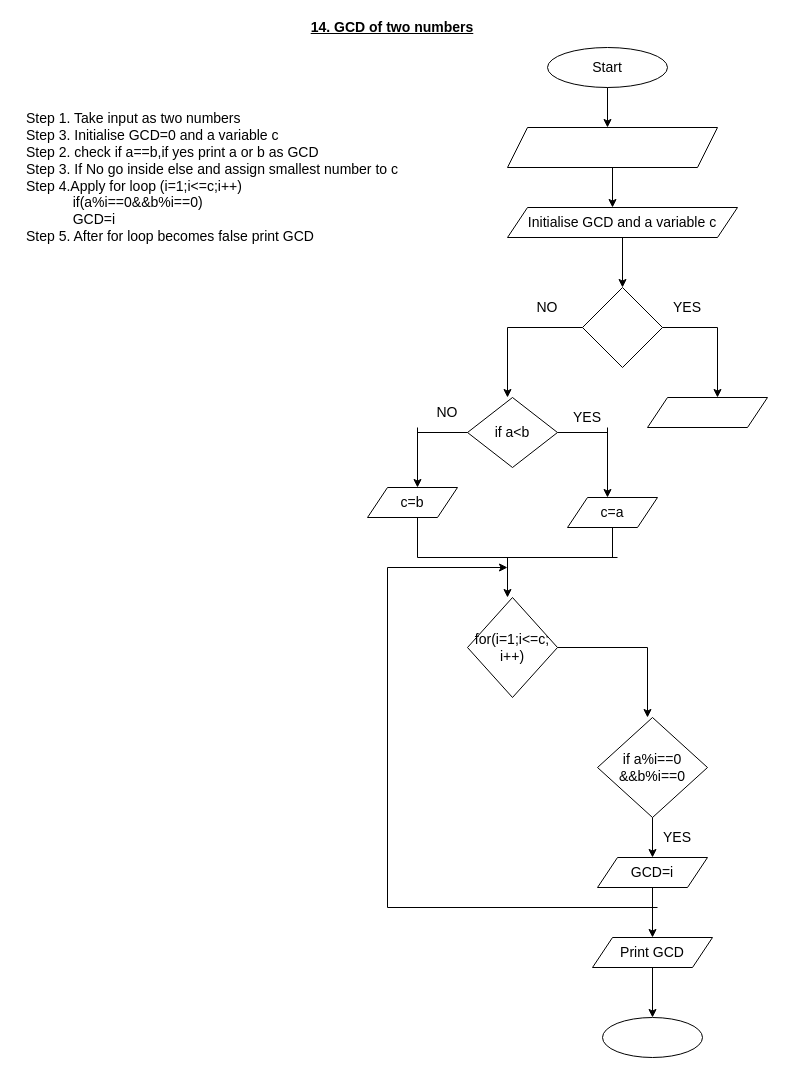
The diagram is 785 pixels wide and 1075 high, and some of its shapes have lost their labels. Each missing label, with the box of its shape:
Check if a==b: (582, 286, 662, 368)
Input 2 numbers a and b: (506, 126, 718, 168)
Print GCD=a: (646, 396, 768, 428)
Stop: (602, 1016, 702, 1058)
